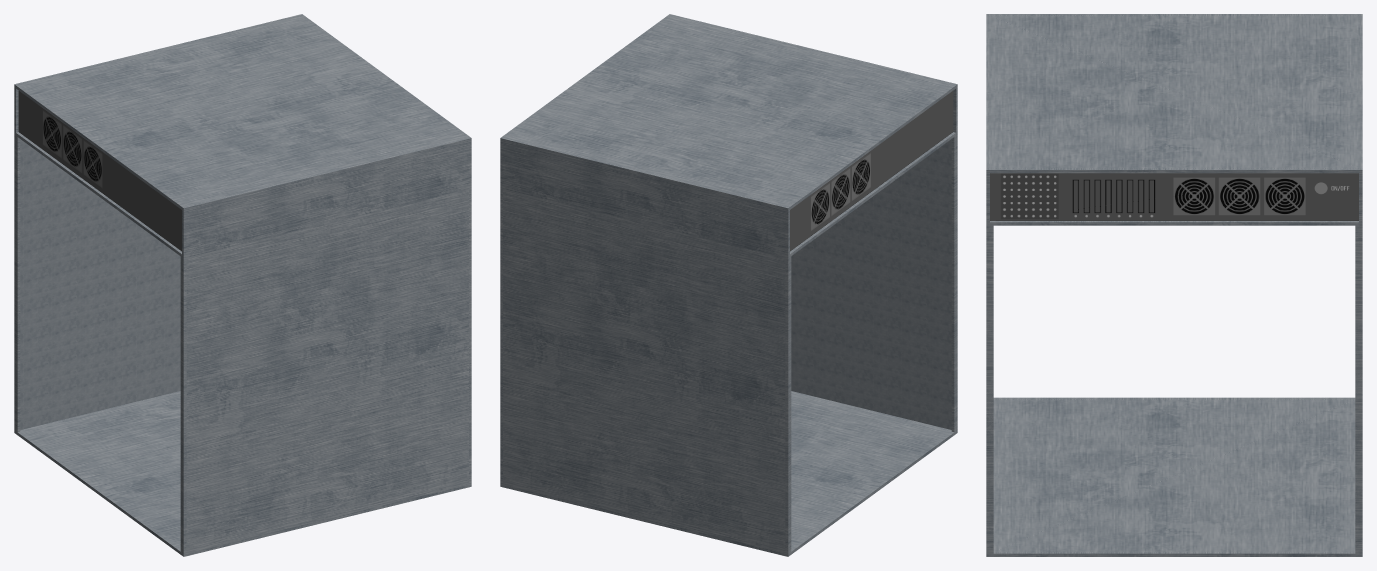
The model's file is ServerStack-1M.obj.
3 renders of one model, left to right at view 1: azimuth 30°, elevation 25°; view 2: azimuth 150°, elevation 25°; view 3: azimuth 270°, elevation 25°, orthographic. The views are drawn at different scales.
Parts seen in each view (by area): view 1: ServerStack-1M; view 2: ServerStack-1M; view 3: ServerStack-1M.
Boxes of the visible parts, left/top/right/bottom form: ServerStack-1M: left=14, top=14, right=471, bottom=556; ServerStack-1M: left=500, top=14, right=957, bottom=556; ServerStack-1M: left=986, top=14, right=1362, bottom=556.
Size of the model in its own units: 1.02 by 1.18 by 1.04.
